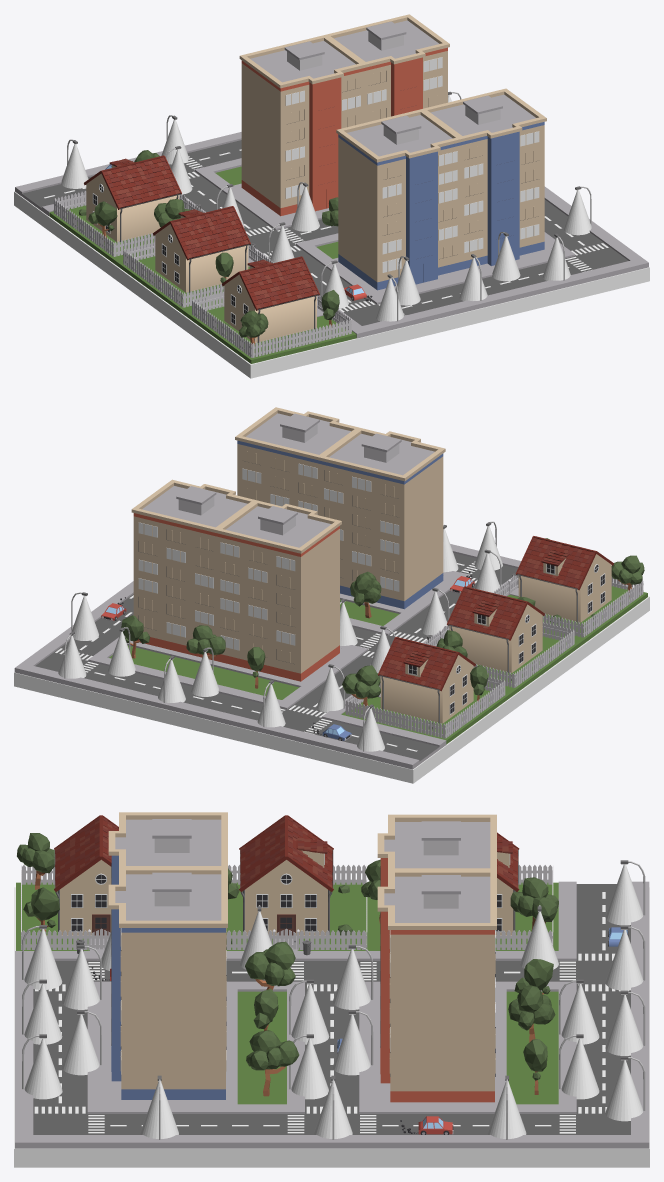
The model's file is Low_Poly_City_2.glb.
3 views of the same model, one above another, from view 1: azimuth 30°, elevation 25°; view 2: azimuth 150°, elevation 25°; view 3: azimuth 270°, elevation 25° (orthographic). The views are drawn at different scales.
Visible parts, largest first — view 1: CestaX.014_0, Dom.006_0, Dom.003_0, Dom.005_0, Area.000_0, Dom.004_0, Cube.000_0, Cube.008_0, Cube.001_0, Area.005_0, Cube.014_0, Cube.002_0 (+17 smaller); view 2: CestaX.014_0, Dom.003_0, Dom.006_0, Dom.004_0, Area.000_0, Dom.005_0, Cube.001_0, Cube.008_0, Cube.000_0, Area.005_0, Cube.003_0, Area.006_0 (+23 smaller); view 3: CestaX.014_0, Dom.005_0, Dom.004_0, Area.000_0, Cube.000_0, Dom.003_0, Dom.006_0, Cube.008_0, Area.005_0, Area.006_0, Area.007_0, Cube.002_0 (+36 smaller).
Part boxes in pixels (x1,y1,x2,y2): CestaX.014_0: [15, 132, 648, 338]; Dom.006_0: [333, 108, 465, 294]; Dom.003_0: [233, 34, 368, 220]; Dom.005_0: [419, 88, 551, 276]; Area.000_0: [14, 191, 649, 378]; Dom.004_0: [324, 14, 449, 123]; Cube.000_0: [153, 206, 250, 292]; Cube.008_0: [222, 256, 319, 343]; Cube.001_0: [84, 155, 181, 242]; Area.005_0: [49, 204, 356, 363]; Cube.014_0: [192, 292, 351, 357]; Cube.002_0: [123, 241, 274, 307]; CestaX.014_0: [14, 544, 521, 769]; Dom.003_0: [210, 500, 348, 687]; Dom.006_0: [316, 427, 450, 613]; Dom.004_0: [127, 479, 259, 667]; Area.000_0: [14, 596, 649, 783]; Dom.005_0: [235, 407, 362, 516]; Cube.001_0: [377, 637, 475, 723]; Cube.008_0: [515, 536, 613, 622]; Cube.000_0: [447, 586, 544, 672]; Area.005_0: [341, 585, 647, 744]; Cube.003_0: [345, 676, 505, 738]; Area.006_0: [109, 645, 298, 699]; CestaX.014_0: [15, 881, 649, 1148]; Dom.005_0: [105, 866, 237, 1104]; Dom.004_0: [377, 868, 506, 1104]; Area.000_0: [14, 887, 649, 1167]; Cube.000_0: [239, 815, 333, 935]; Dom.003_0: [377, 814, 506, 1052]; Dom.006_0: [105, 812, 237, 1050]; Cube.008_0: [54, 815, 118, 935]; Area.005_0: [16, 882, 558, 950]; Area.006_0: [506, 991, 558, 1104]; Area.007_0: [237, 991, 286, 1104]; Cube.002_0: [226, 864, 367, 950].
Bounding box in the file's own units: 18.28 × 7 × 18.69.
Materials: 3 (1 with a texture image).
